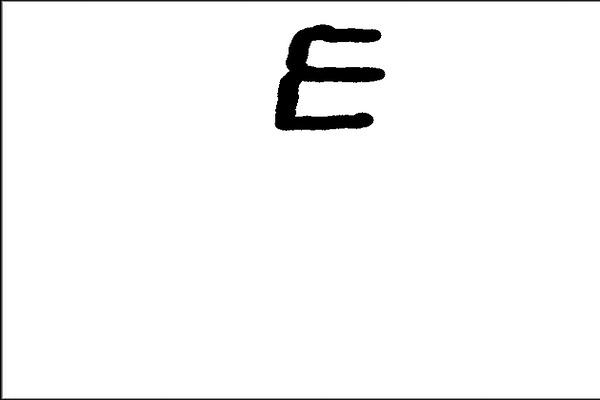E: (270, 19, 389, 135)
